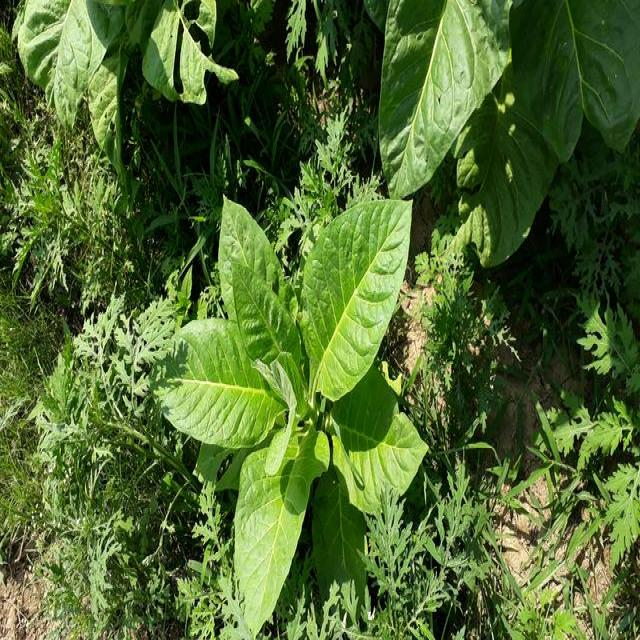crop: (160, 191, 407, 603), (383, 0, 640, 253), (18, 0, 235, 107)
